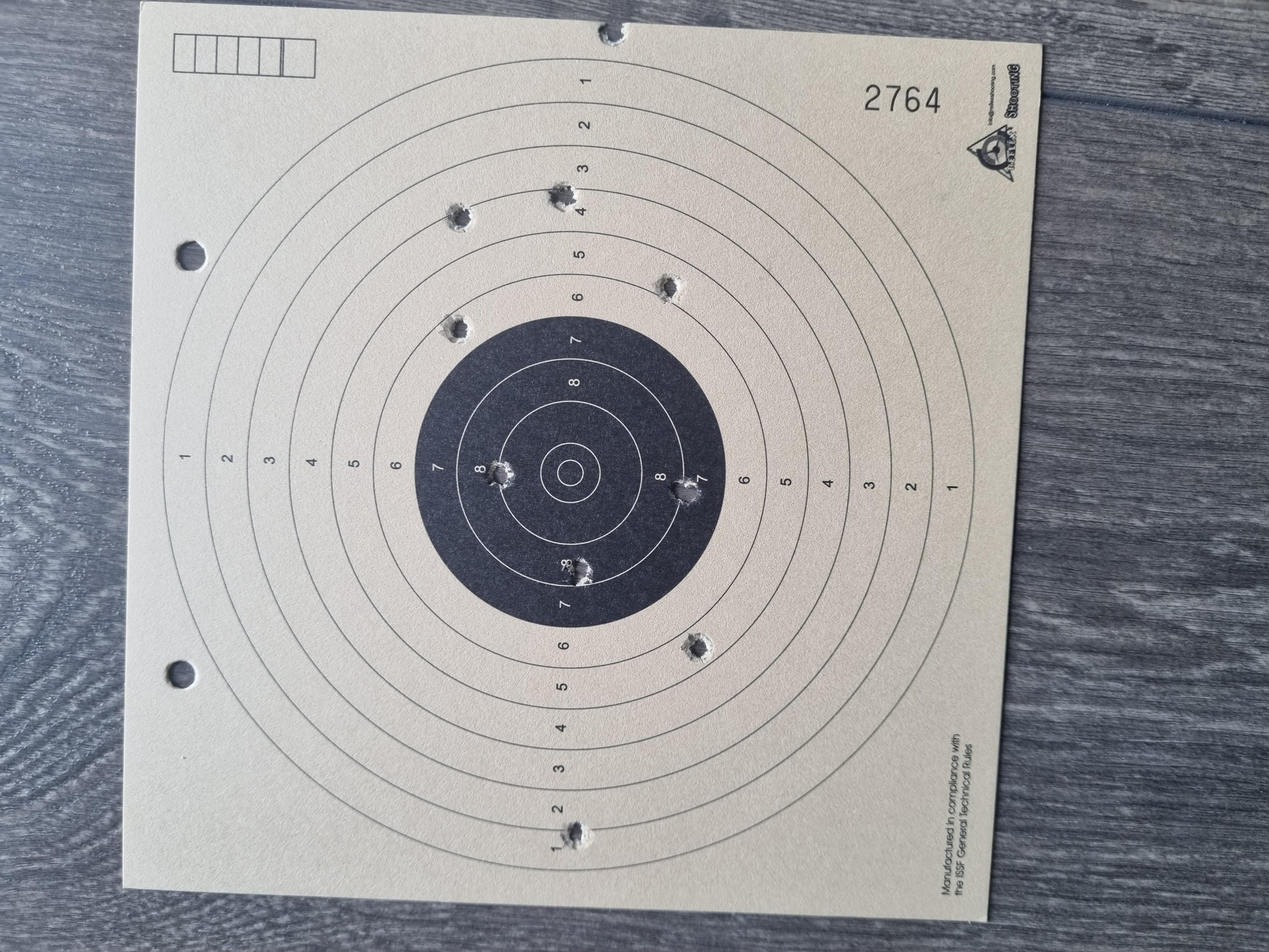hole: (986, 410, 1028, 434), (386, 511, 426, 533), (487, 423, 527, 445), (616, 364, 656, 385), (811, 331, 850, 352), (863, 491, 906, 510), (959, 335, 999, 354), (137, 421, 175, 440), (1207, 448, 1236, 470), (595, 501, 632, 516), (595, 511, 628, 527)
